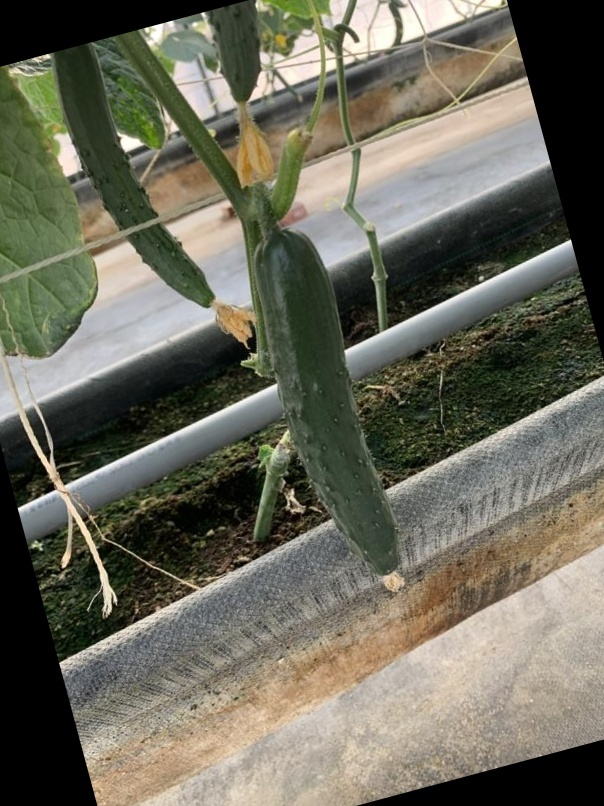mature: (246, 228, 408, 582)
